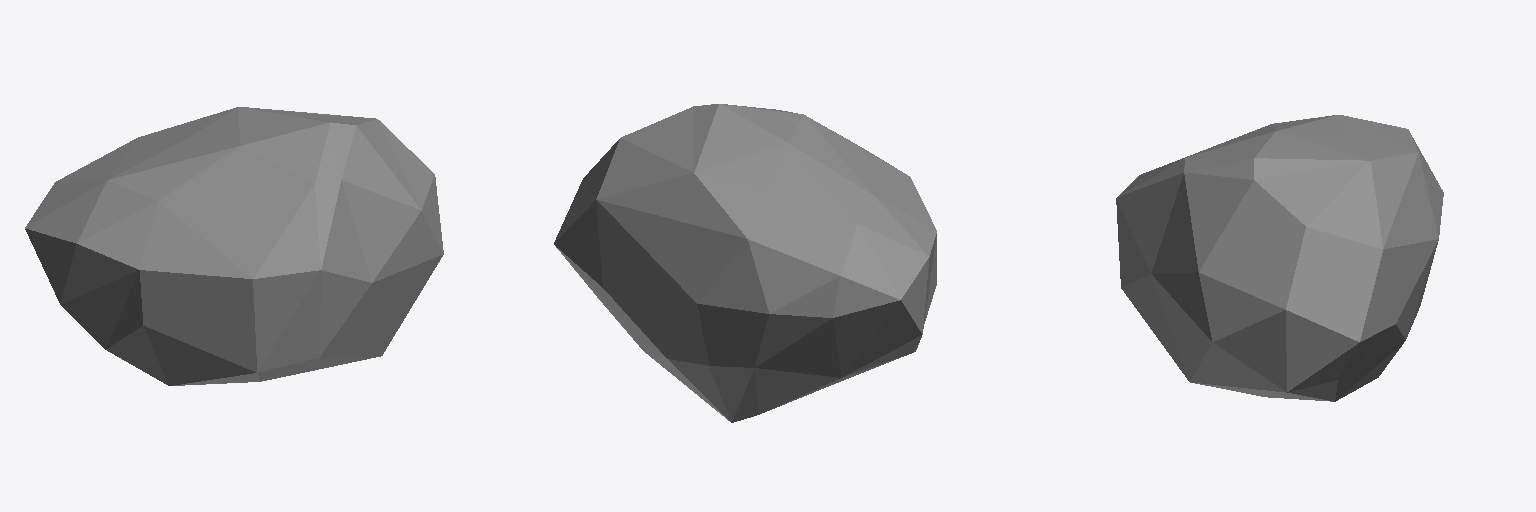
File: rock.obj
3 views of the same model, side by side, from view 1: azimuth 30°, elevation 25°; view 2: azimuth 150°, elevation 25°; view 3: azimuth 270°, elevation 25° (orthographic).
Visible parts, largest first — view 1: Boulder1; view 2: Boulder1; view 3: Boulder1.
Boxes of the visible parts, x1=… form: Boulder1: x1=25, y1=107, x2=443, y2=385; Boulder1: x1=554, y1=104, x2=936, y2=422; Boulder1: x1=1116, y1=115, x2=1443, y2=401.
Size of the model in its own units: 125 by 83.83 by 97.31.